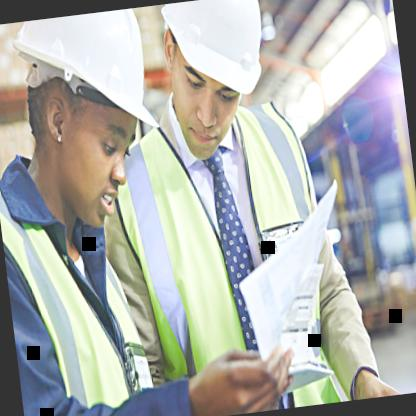helmet: (0, 4, 186, 236), (149, 0, 288, 179)
